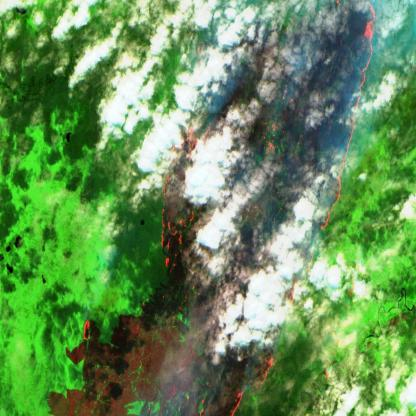fire: (155, 0, 379, 416), (73, 311, 103, 355)
